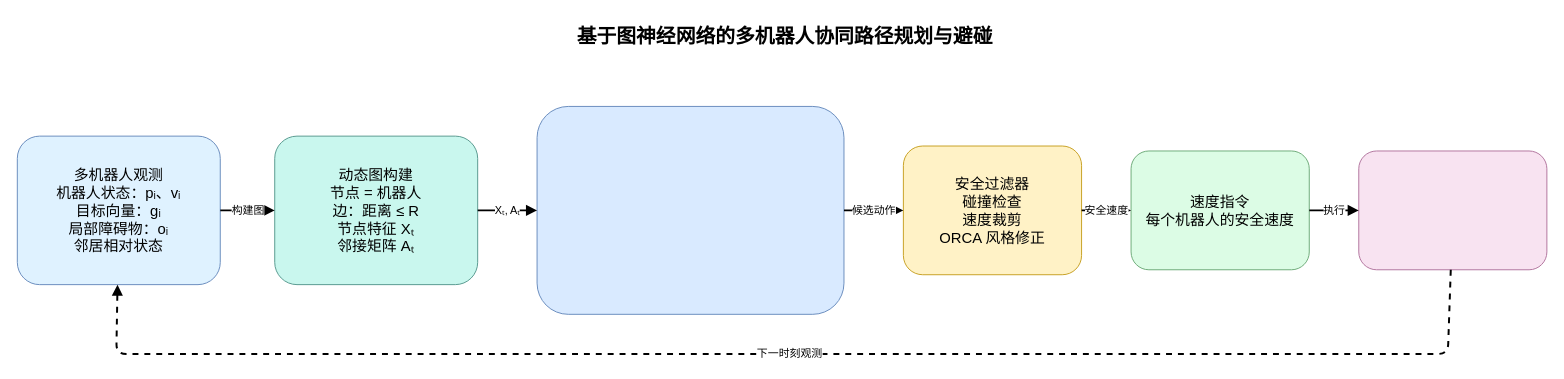
This 1564x379 diagram has some shape labels left out. Each missing label, with the centre of its shape:
"共享 GNN 策略网络 节点编码器 MLP(Xₜ) 消息传递 1：邻居聚合 消息传递 2：嵌入更新 消息传递 3：共享图表示 共享策略头：速度动作" belongs at [690,209].
"多机器人环境 物理执行、障碍物与目标" belongs at [1452,210].
